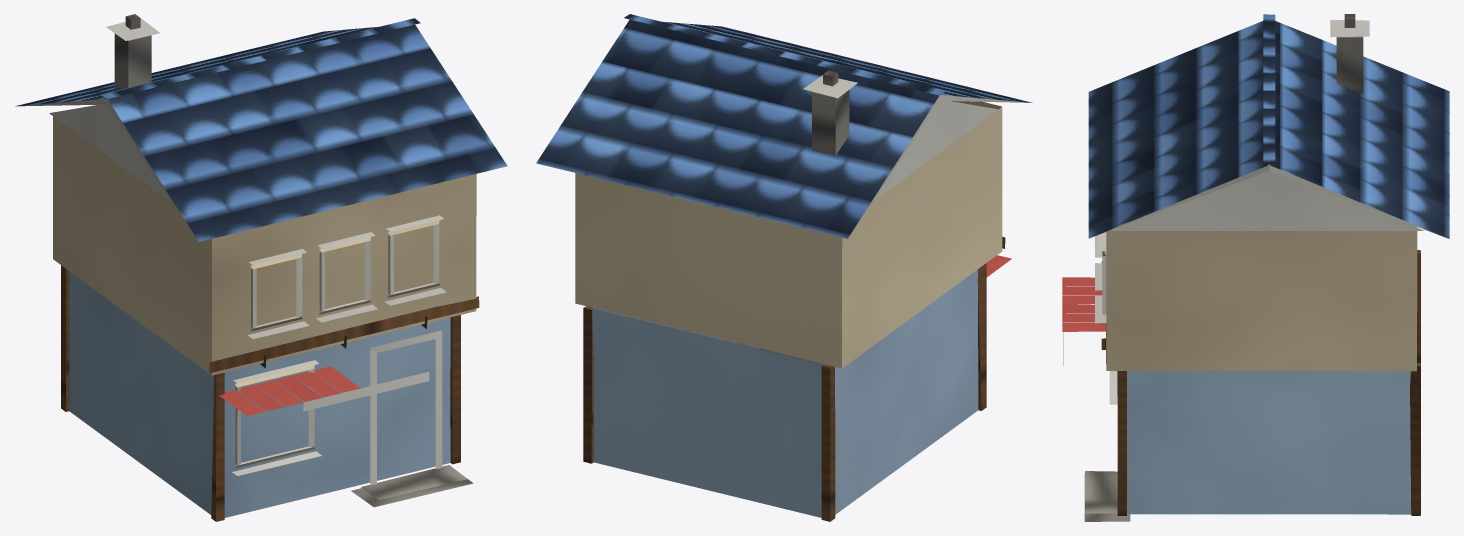
Rendered from Env_House_Townhouse_B_LOD2.fbx.
3 renders of one model, left to right at view 1: azimuth 30°, elevation 25°; view 2: azimuth 150°, elevation 25°; view 3: azimuth 270°, elevation 25°, orthographic. The views are drawn at different scales.
Visible parts, largest first — view 1: Env_House_Townhouse_B_LOD2; view 2: Env_House_Townhouse_B_LOD2; view 3: Env_House_Townhouse_B_LOD2.
Part boxes in pixels (x1,y1,x2,y2): Env_House_Townhouse_B_LOD2: (15,14,507,521); Env_House_Townhouse_B_LOD2: (536,14,1032,521); Env_House_Townhouse_B_LOD2: (1062,14,1449,521).
Size of the model in its own units: 526 by 575 by 668.
